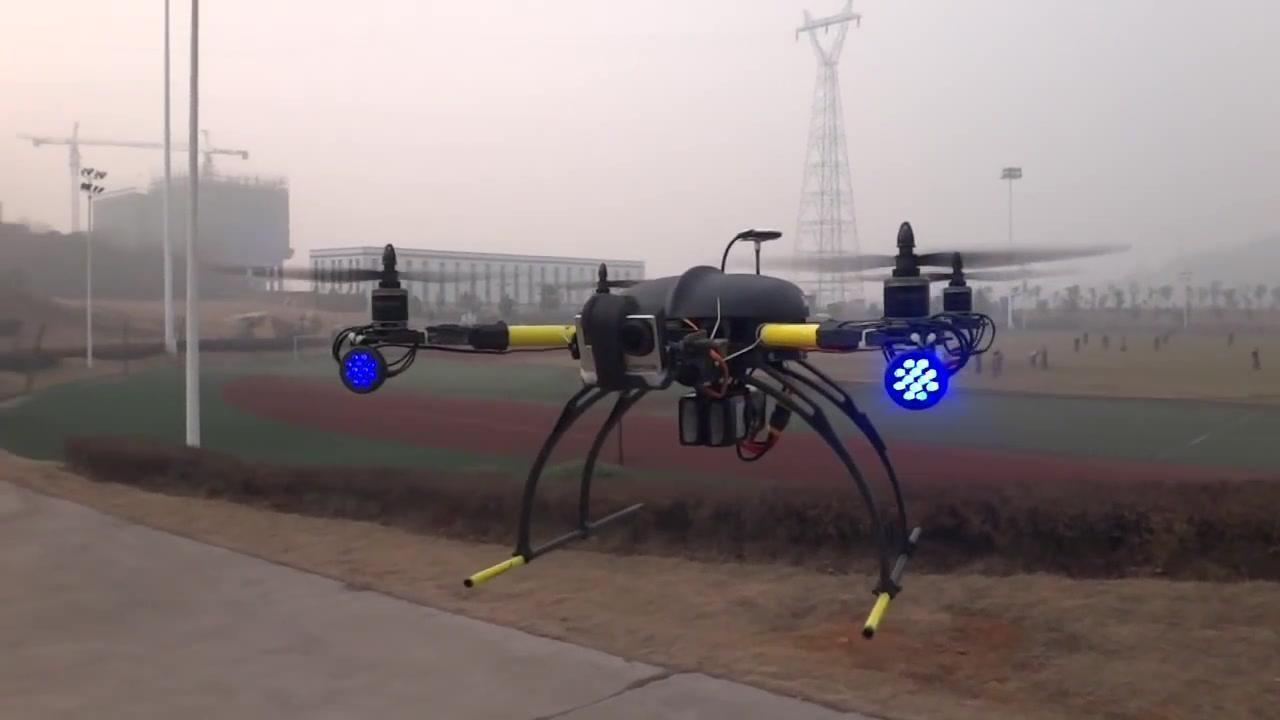UAV: (1268, 616, 1280, 720)
